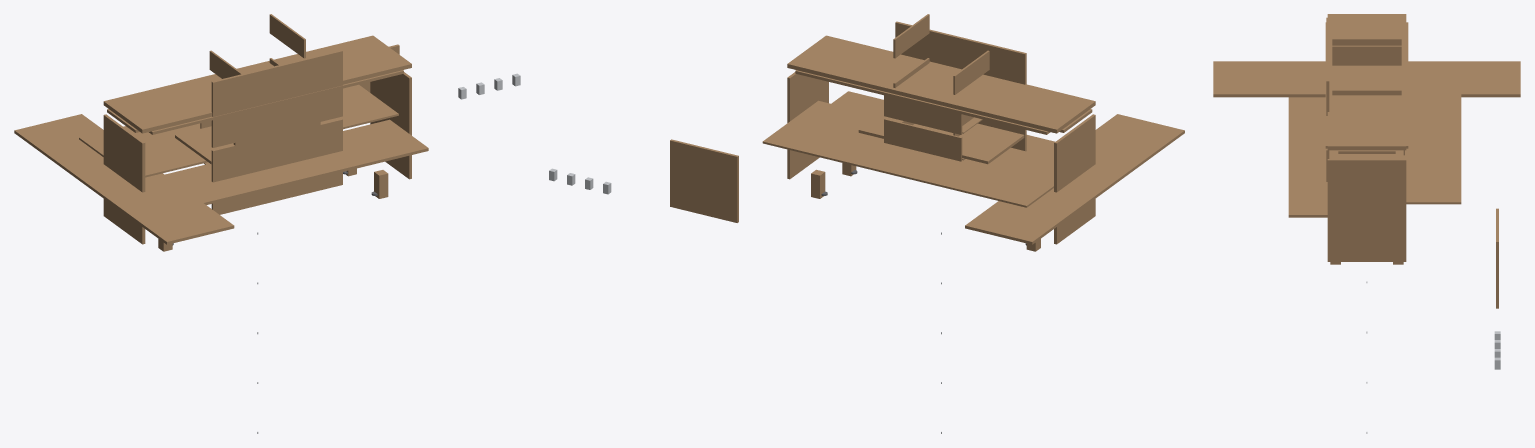
Rendered from Oakley_sideboard.glb.
3 views of the same model, side by side, from view 1: azimuth 30°, elevation 25°; view 2: azimuth 150°, elevation 25°; view 3: azimuth 270°, elevation 25° (orthographic).
Visible parts, largest first — view 1: carcass.bottom, door_2, shelf.drawer, top, door_1, carcass.back, carcass.side_1, carcass.side_2, drawer.front_2, divider.drawer_2, drawer.front_3, rail.long_1 (+5 smaller); view 2: carcass.back, top, carcass.bottom, divider.centre, door_2, carcass.side_1, shelf.adjustable_1, shelf.adjustable_2, drawer.back_2, carcass.side_2, drawer.back_3, shelf.drawer (+3 smaller); view 3: top, carcass.side_2, carcass.back, carcass.bottom, shelf.drawer, drawer.side_6, shelf.adjustable_1, drawer.side_5, shelf.adjustable_2, drawer.side_4, door_2, rail.long_2 (+1 smaller).
Part boxes in pixels (<box>): carcass.bottom: <box>14,114,234,244</box>; door_2: <box>211,50,342,147</box>; shelf.drawer: <box>165,119,428,204</box>; top: <box>103,35,411,133</box>; door_1: <box>211,118,342,214</box>; carcass.back: <box>79,84,398,177</box>; carcass.side_1: <box>103,114,145,244</box>; carcass.side_2: <box>370,72,411,179</box>; drawer.front_2: <box>233,112,320,159</box>; divider.drawer_2: <box>244,113,311,158</box>; drawer.front_3: <box>235,81,320,129</box>; rail.long_1: <box>149,70,403,134</box>; carcass.back: <box>762,100,1053,207</box>; top: <box>787,35,1095,133</box>; carcass.bottom: <box>965,114,1184,244</box>; divider.centre: <box>670,139,738,222</box>; door_2: <box>895,21,1026,84</box>; carcass.side_1: <box>1054,114,1095,244</box>; shelf.adjustable_1: <box>863,60,1023,111</box>; shelf.adjustable_2: <box>858,111,1024,164</box>; drawer.back_2: <box>884,118,962,161</box>; carcass.side_2: <box>787,72,828,179</box>; drawer.back_3: <box>884,95,962,134</box>; shelf.drawer: <box>831,91,1054,157</box>; top: <box>1327,14,1406,150</box>; carcass.side_2: <box>1327,159,1406,261</box>; carcass.back: <box>1403,72,1461,204</box>; carcass.bottom: <box>1213,61,1520,97</box>; shelf.drawer: <box>1288,97,1330,217</box>; drawer.side_6: <box>1332,45,1401,65</box>; shelf.adjustable_1: <box>1330,48,1403,111</box>; drawer.side_5: <box>1332,38,1401,45</box>; shelf.adjustable_2: <box>1330,150,1403,158</box>; drawer.side_4: <box>1332,90,1401,95</box>; door_2: <box>1326,17,1329,115</box>; rail.long_2: <box>1406,22,1408,148</box>.
Bounding box in the file's own units: 3.29 × 2.55 × 1.76.
